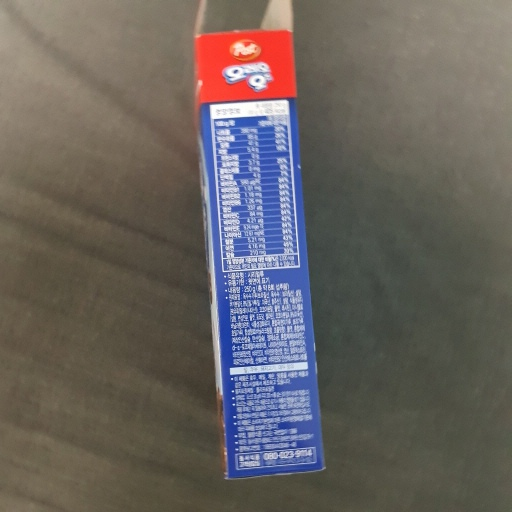Paper_0: (171, 1, 339, 483)
